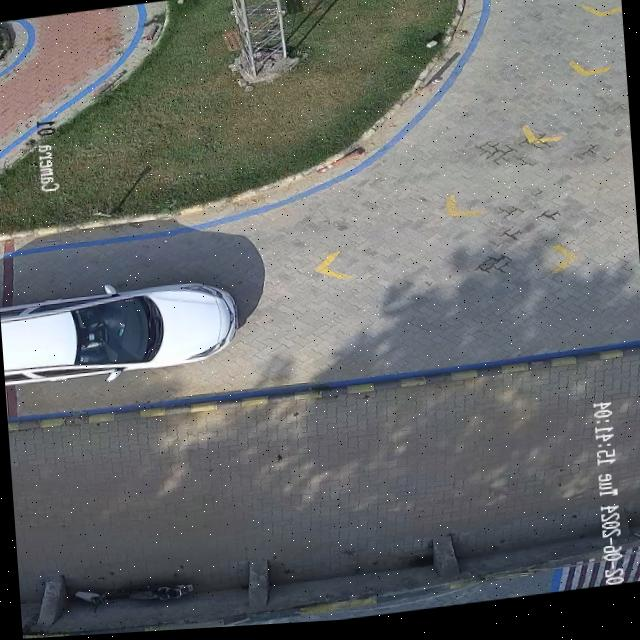car: (0, 286, 237, 385)
